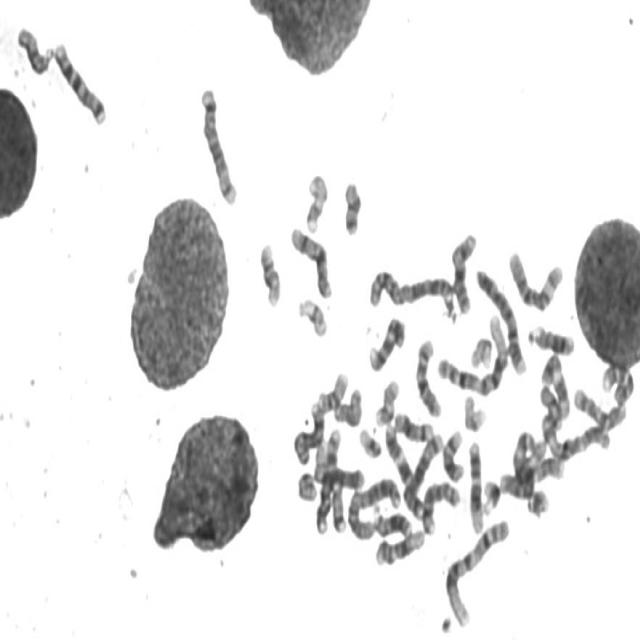A1: (442, 512, 511, 629), (434, 306, 510, 398)
A2: (365, 261, 460, 321), (345, 469, 403, 543)
A3: (540, 405, 612, 461), (499, 428, 538, 507)
B4: (472, 260, 528, 376), (310, 446, 366, 491)
B5: (198, 79, 240, 207), (400, 426, 444, 519)
C10: (570, 380, 629, 432), (412, 331, 444, 419)
C11: (382, 417, 426, 521), (538, 346, 573, 422)
C12: (372, 522, 427, 568), (465, 435, 486, 534)
C6: (506, 242, 566, 312), (516, 437, 566, 482)
C7: (50, 33, 109, 127), (313, 428, 347, 539)
C8: (419, 472, 463, 536), (290, 396, 327, 466)
C9: (366, 310, 408, 373), (598, 357, 636, 406)
D13: (525, 317, 577, 357), (370, 500, 413, 539)
D14: (391, 405, 436, 443), (439, 422, 466, 484)
D15: (13, 18, 55, 76), (332, 387, 362, 427)
E16: (256, 235, 284, 309), (314, 364, 350, 415)
E17: (302, 166, 331, 235), (372, 373, 401, 427)
E18: (536, 379, 566, 433), (340, 174, 364, 238)
F19: (461, 389, 488, 433), (468, 335, 494, 373)
F20: (295, 466, 318, 512), (356, 427, 386, 459)
G21: (479, 471, 502, 516), (524, 480, 551, 518)
G22: (295, 292, 330, 338), (329, 486, 348, 531)
X: (287, 219, 334, 299), (448, 225, 478, 315)
